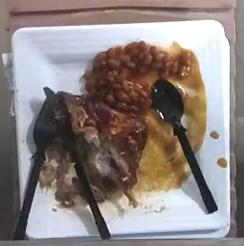beans: (84, 41, 192, 106)
chicken: (69, 98, 147, 193)
